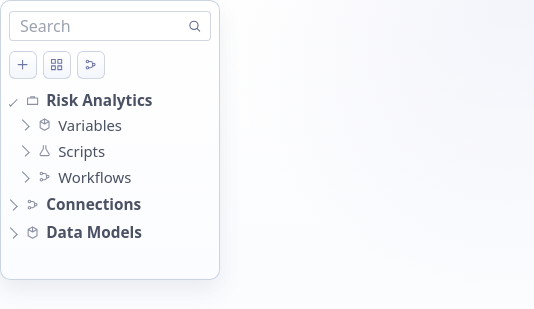
Test: ObjectTree › preserves expand and collapse behavior for Connections
Step 1. Click the button named "Connections submenu" → (12, 205), box [9,200,15,210]
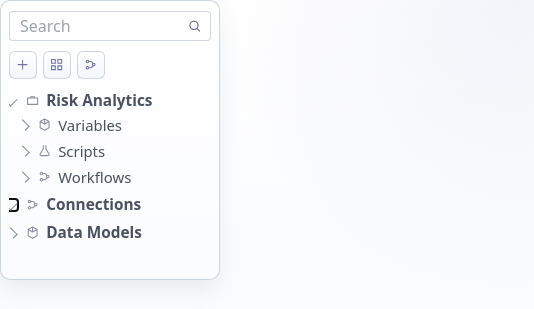
expect the button named "Connections submenu" is expanded: met
Step 2. Click the button named "Connections submenu" → (12, 205), box [9,200,15,210]
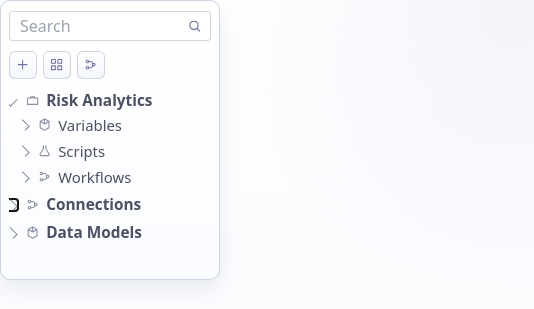
expect the button named "Connections submenu" is collapsed: met, box [9,200,15,210]
